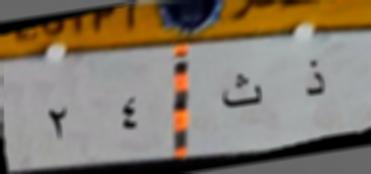2: (40, 102, 81, 153)
4: (108, 92, 146, 138)
thaa: (221, 69, 264, 115)
zaal: (300, 55, 333, 104)
